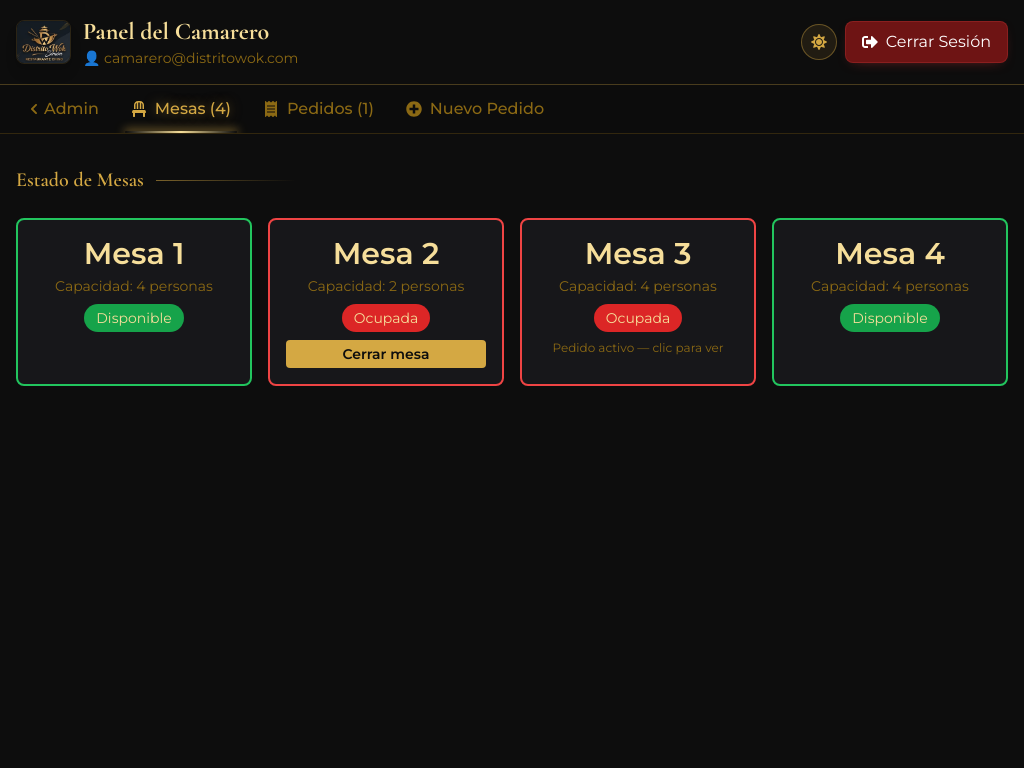
Test: filtra los pedidos por tipo
Click the button "Pedidos (1)".
click(318, 109)  # box [251,85,386,133]
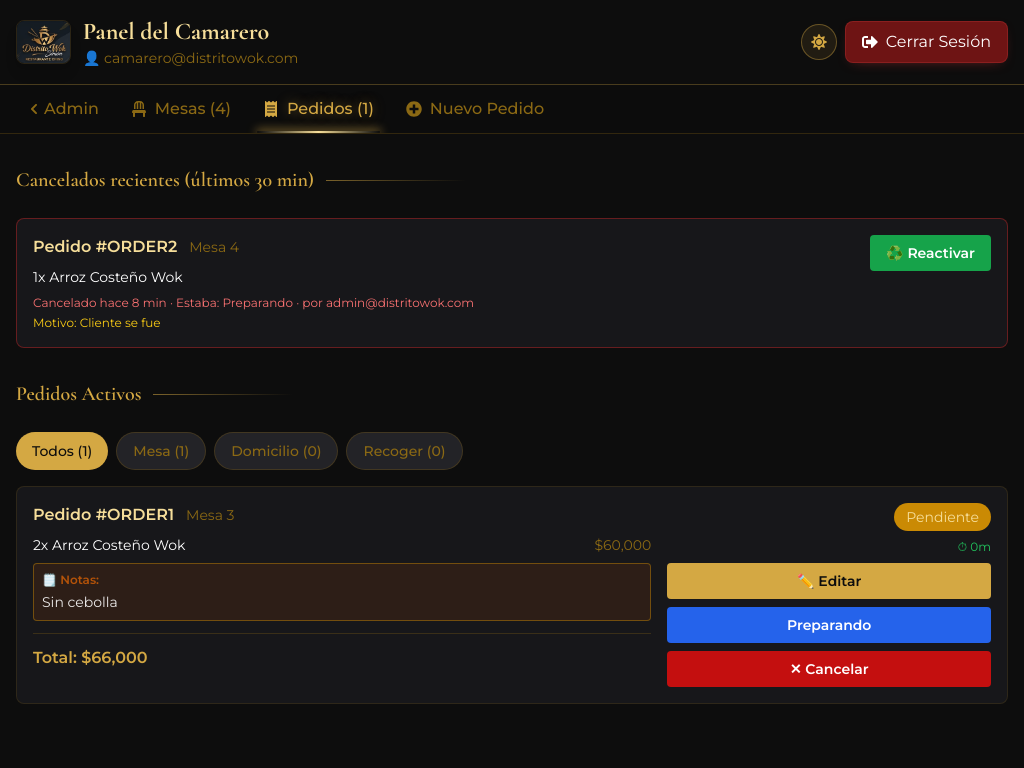
Now the button "Todos (1)" is shown, box [16,432,108,470]
Now the button "Mesa (1)" is shown, box [116,432,206,470]
Now the button "Domicilio (0)" is shown
Click the button "Domicilio (0)".
click(276, 451)  # box [214,432,338,470]
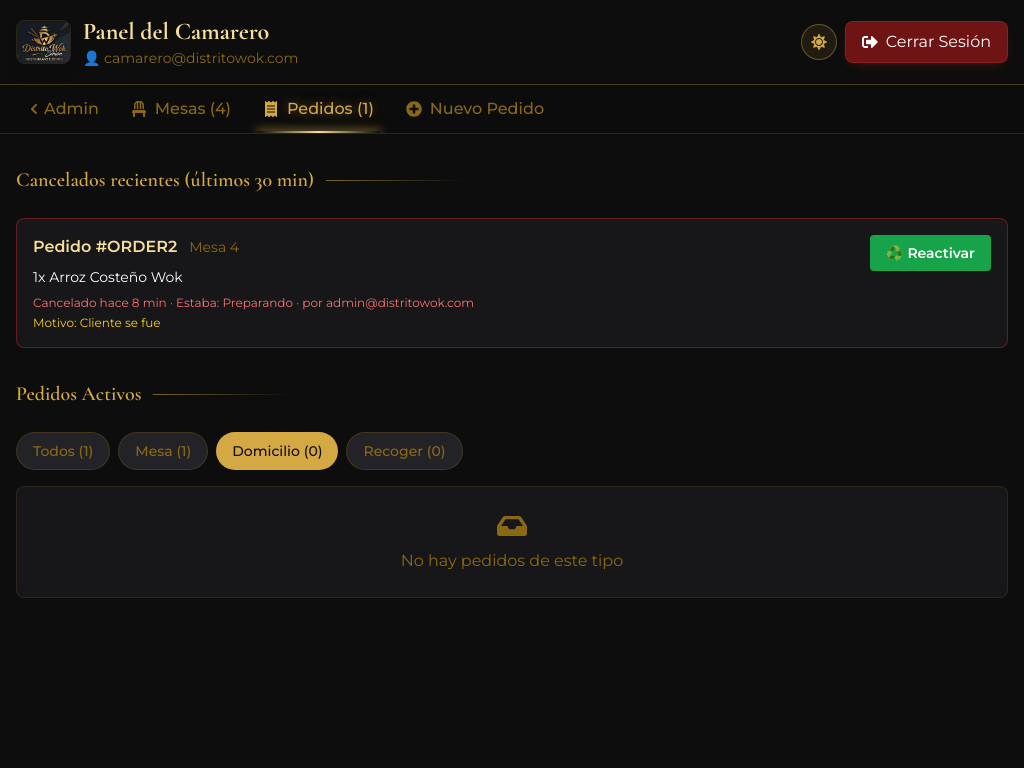
Now the text "No hay pedidos de este tipo" is shown, box [401,551,623,570]
